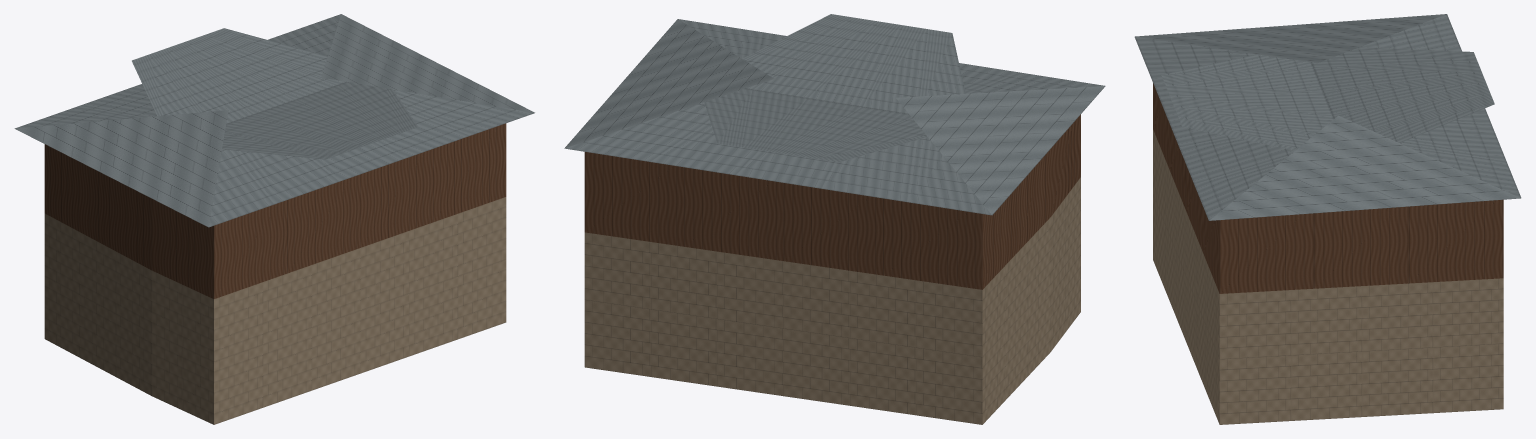
The model's file is bld_c18_30_372.gltf.
3 views of the same model, side by side, from view 1: azimuth 30°, elevation 25°; view 2: azimuth 150°, elevation 25°; view 3: azimuth 270°, elevation 25° (orthographic). The views are drawn at different scales.
Visible parts, largest first — view 1: bld_c18_30_372; view 2: bld_c18_30_372; view 3: bld_c18_30_372.
Boxes of the visible parts, box(x1,y1,x2,y2) form: bld_c18_30_372: box(14, 14, 534, 424); bld_c18_30_372: box(564, 14, 1105, 424); bld_c18_30_372: box(1134, 14, 1521, 424).
Size of the model in its own units: 15.81 by 8.7 by 12.5.
3 materials, 3 textured.
